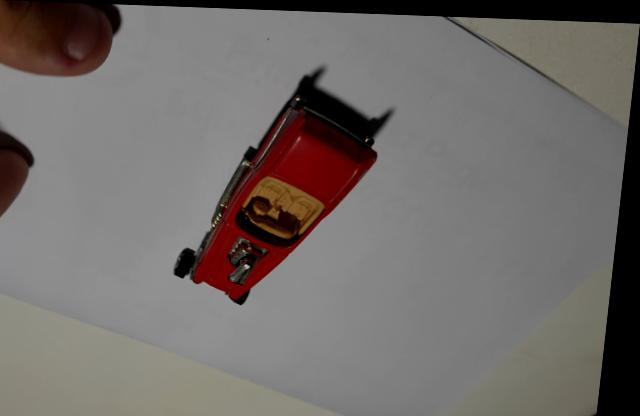03_V8: (178, 67, 398, 300)
